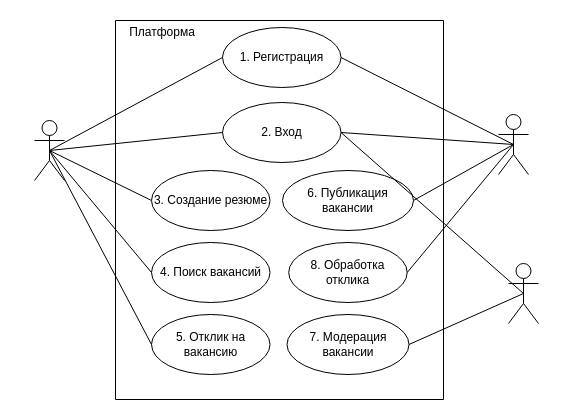
This 584x417 diagram has some shape labels left out. Here are the shapes that lost their labels. From the top down, the centre of each, then its label:
point (49, 150): Соискатель
point (513, 144): Работодатель
point (523, 293): Администратор
